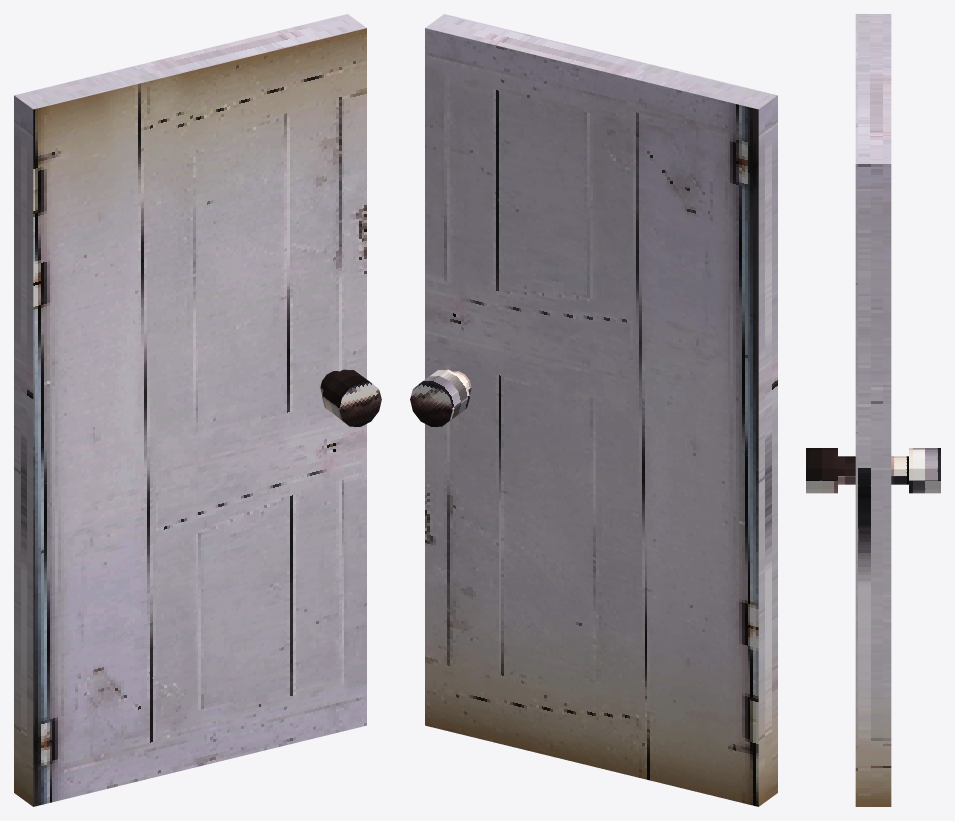
Rendered from door1.glb.
The picture shows the model from 3 angles, left to right: view 1: azimuth 30°, elevation 25°; view 2: azimuth 150°, elevation 25°; view 3: azimuth 270°, elevation 25°; orthographic projection. The views are drawn at different scales.
Parts seen in each view (by area): view 1: door1; view 2: door1; view 3: door1.
Part boxes in pixels (bbox=[...]): door1: bbox=[14, 14, 381, 806]; door1: bbox=[410, 14, 777, 806]; door1: bbox=[806, 14, 940, 806].
Size of the model in its own units: 1 by 2 by 0.3799.
Materials: 1 (1 with a texture image).
